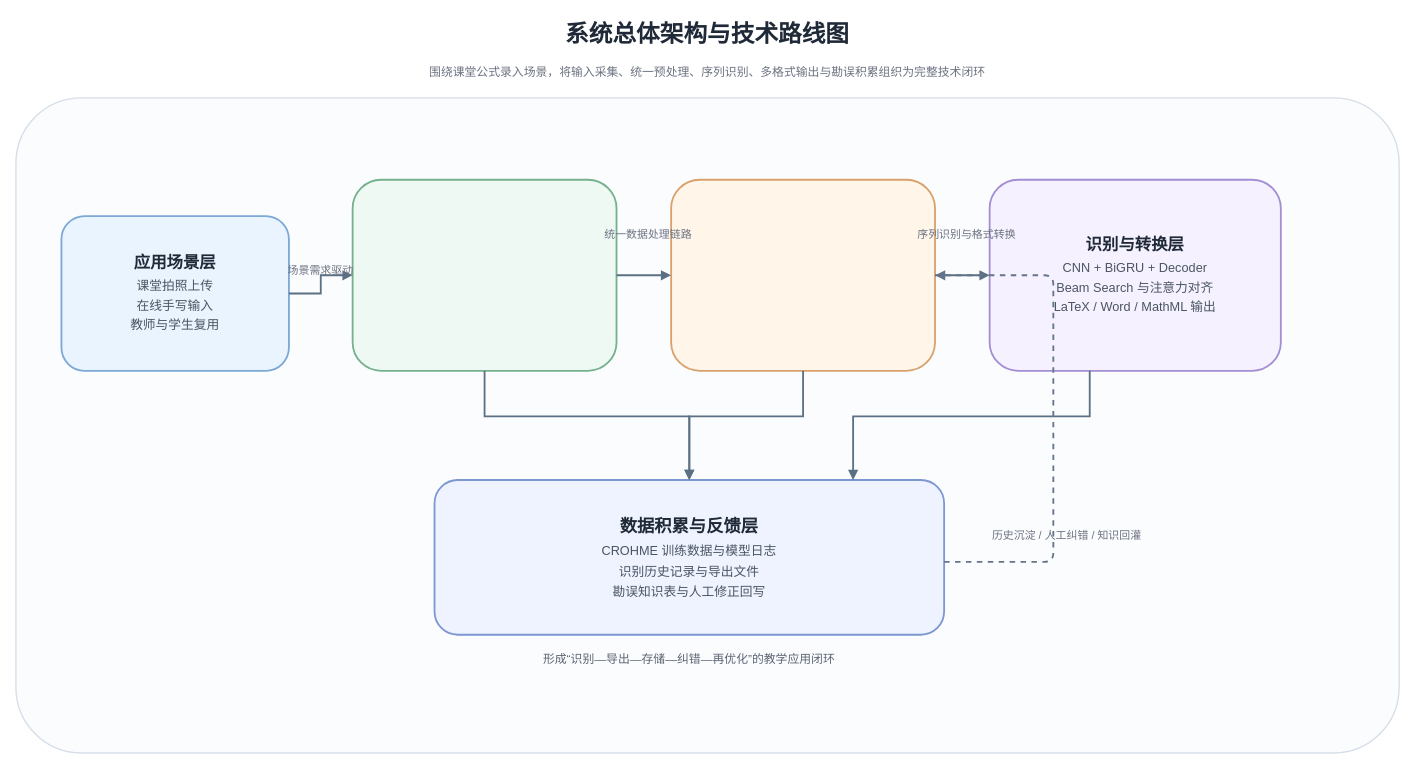
The diagram is 1416 pixels wide and 769 high, and some of its shapes have lost their labels. The shapes that lost their labels are listed below. From the top down, each one's centre as x and y in pixels, then its label:
At (x=484, y=274): "Web 交互层 登录注册与角色校验 拖拽上传与 Canvas 采集 结果展示与复制导出".
At (x=802, y=274): "后端处理层 图像解码与通道统一 灰度化、阈值分割、裁剪 接口组织与结果回传".
